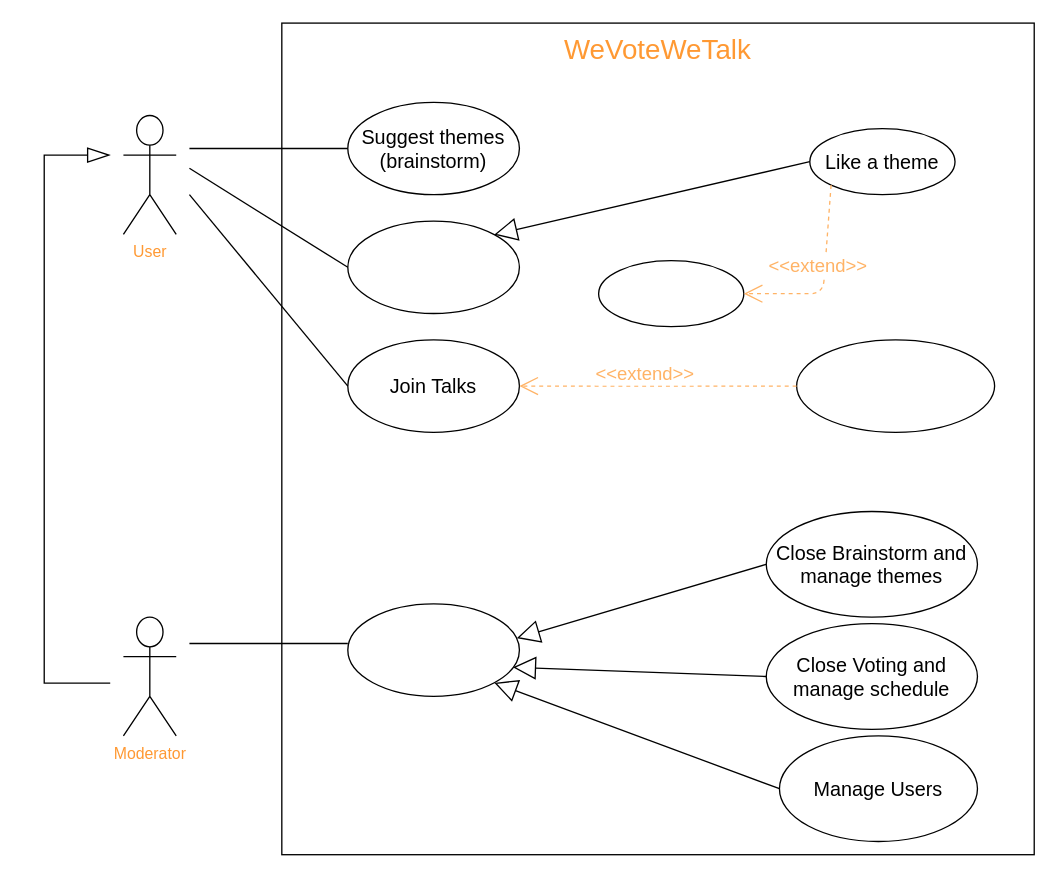
Some shapes in this 1057 by 878 pixel diagram are drawn without their labels. The shapes that lost their labels are listed below. From the top down, each one's centre as x and y in pixels, then its label:
point (432, 267): Vote on themes
point (670, 293): Remove the Like
point (895, 385): Change username, audio, video settings
point (432, 649): Manage
